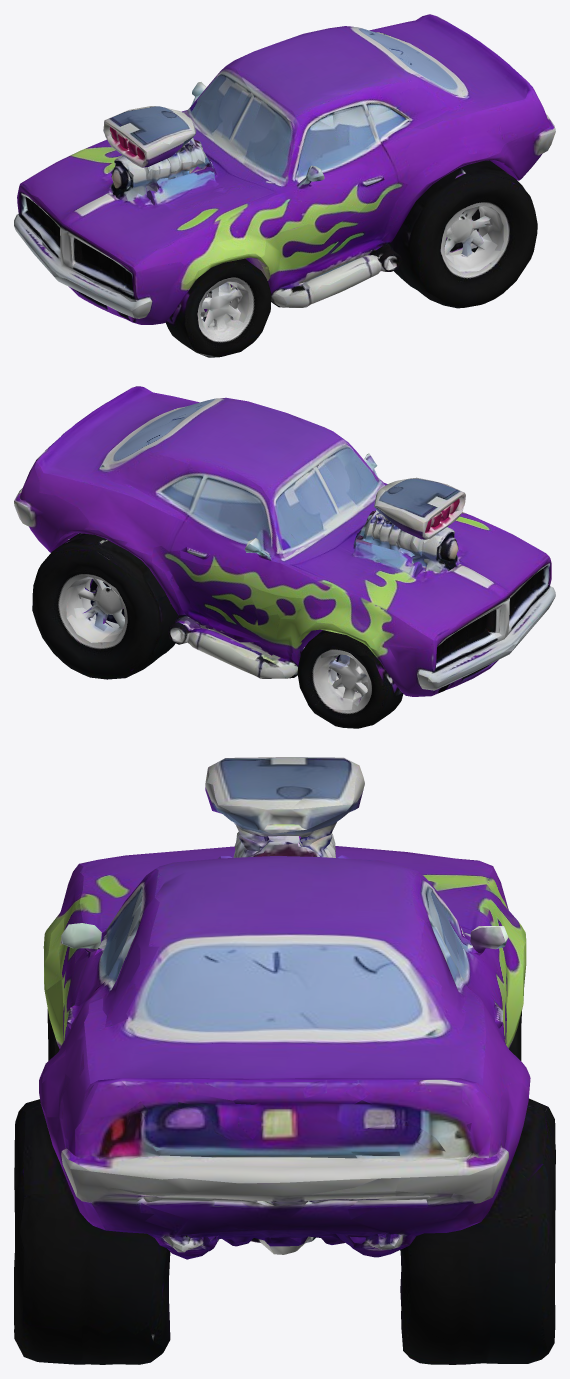
Rendered from purple.glb.
3 views of the same model, one above another, from view 1: azimuth 30°, elevation 25°; view 2: azimuth 150°, elevation 25°; view 3: azimuth 270°, elevation 25° (orthographic). The views are drawn at different scales.
Bounding box in the file's own units: 1.99 × 0.9087 × 1.13.
Materials: 1 (1 with a texture image).
